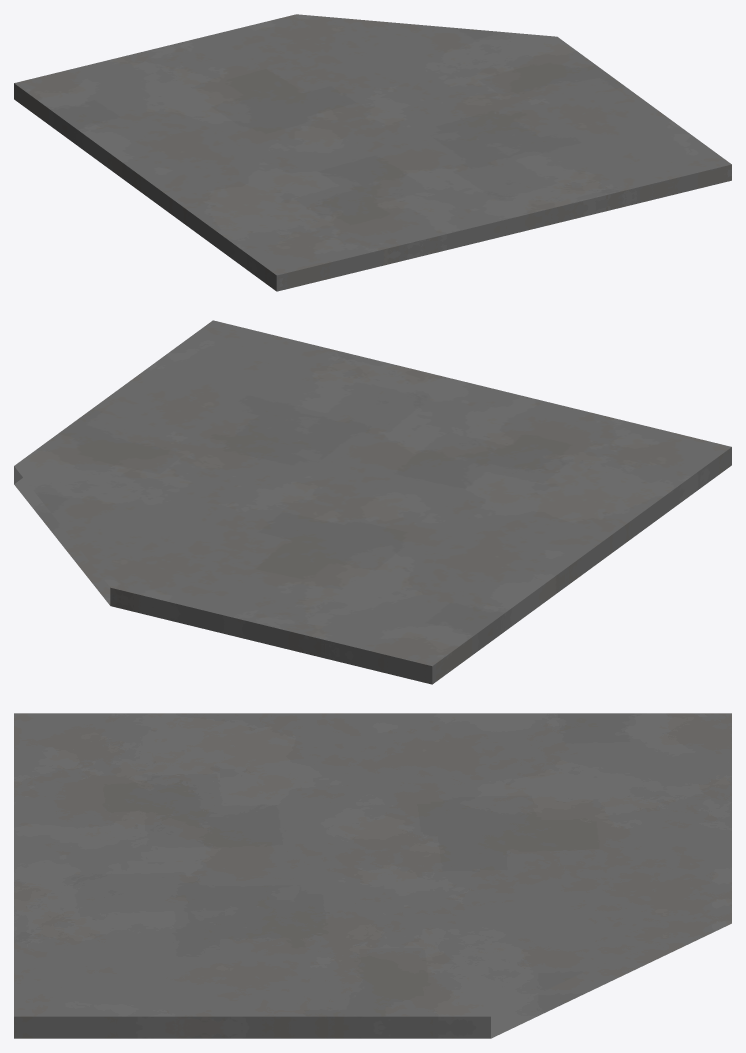
File: Env_Floor_02.fbx
3 renders of one model, top to bottom at view 1: azimuth 30°, elevation 25°; view 2: azimuth 150°, elevation 25°; view 3: azimuth 270°, elevation 25°, orthographic. The views are drawn at different scales.
Visible parts, largest first — view 1: Env_Floor_02; view 2: Env_Floor_02; view 3: Env_Floor_02.
Part boxes in pixels (x1,y1,x2,y2): Env_Floor_02: [14, 14, 731, 291]; Env_Floor_02: [14, 320, 731, 684]; Env_Floor_02: [14, 713, 731, 1038].
Bounding box in the file's own units: 300 × 10.17 × 300.
